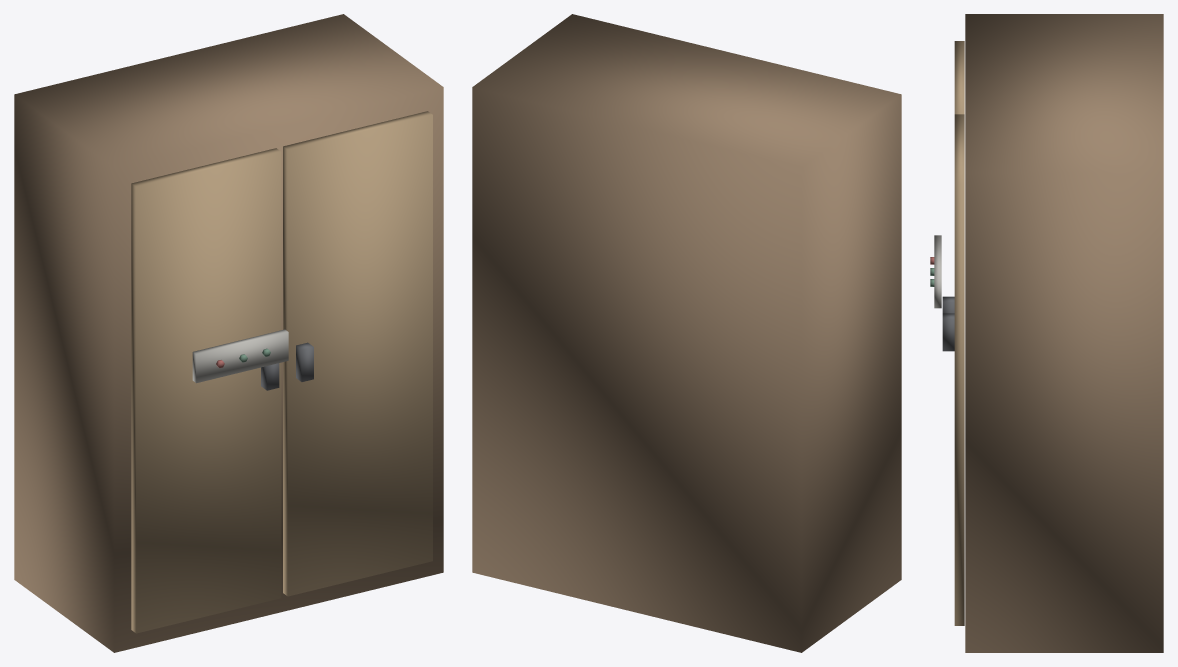
File: lab_reagent_cabinet__reinforced.glb
3 renders of one model, left to right at view 1: azimuth 30°, elevation 25°; view 2: azimuth 150°, elevation 25°; view 3: azimuth 270°, elevation 25°, orthographic.
Visible parts, largest first — view 1: world; view 2: world; view 3: world.
Part boxes in pixels (box(x1,y1,x2,y2)): world: box(14, 14, 443, 652); world: box(472, 14, 901, 652); world: box(930, 14, 1163, 652).
Size of the model in its own units: 0.9785 by 1.38 by 0.6062.
